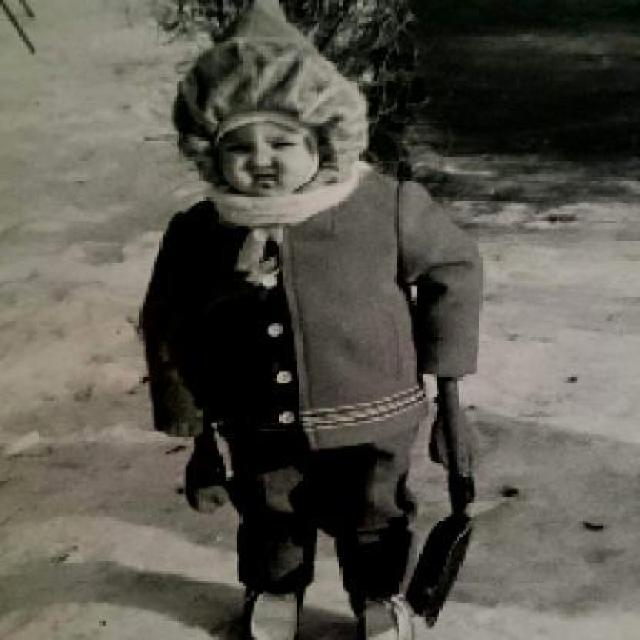child: (137, 5, 489, 638)
